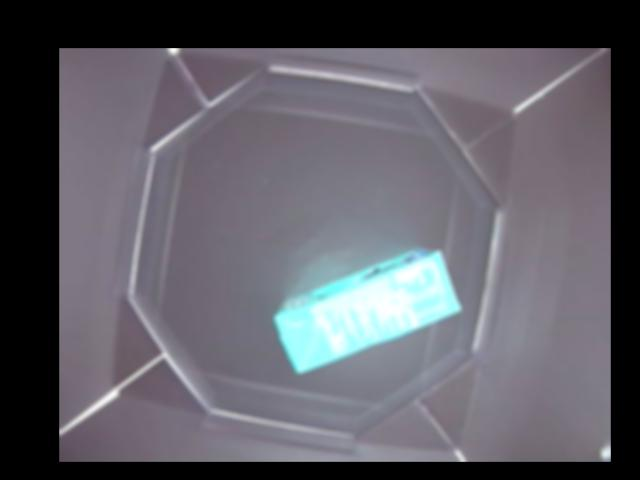Bottle: (271, 247, 459, 372)
